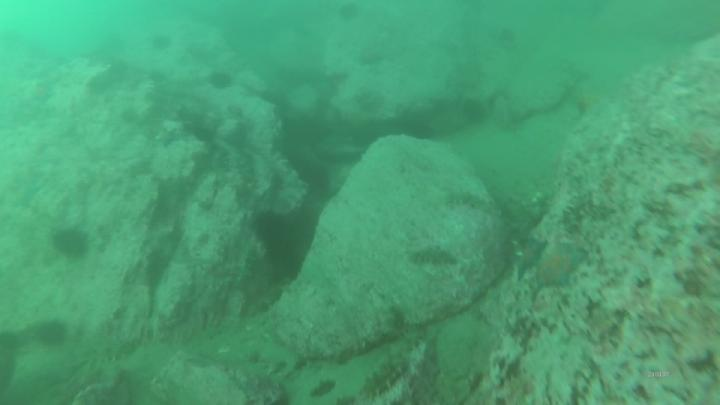echinus: (252, 212, 288, 249), (52, 232, 90, 257), (35, 324, 64, 344), (210, 71, 230, 90)
holothurian: (243, 343, 299, 374), (362, 363, 406, 395), (74, 342, 133, 363), (450, 195, 500, 216), (411, 247, 456, 268), (401, 329, 425, 350)
starfish: (538, 244, 585, 284), (517, 240, 544, 269)
